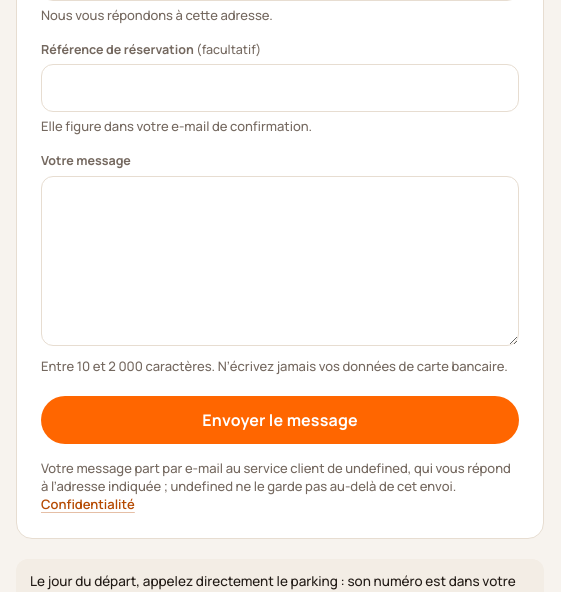
Test case: ContactView (/contact, 15/10/2026) › shows the API's general errors above the form
(page scrolled)
Click the button "Envoyer le message": {"x": 280, "y": 420} x1=41 y1=396 x2=519 y2=444
(page scrolled)
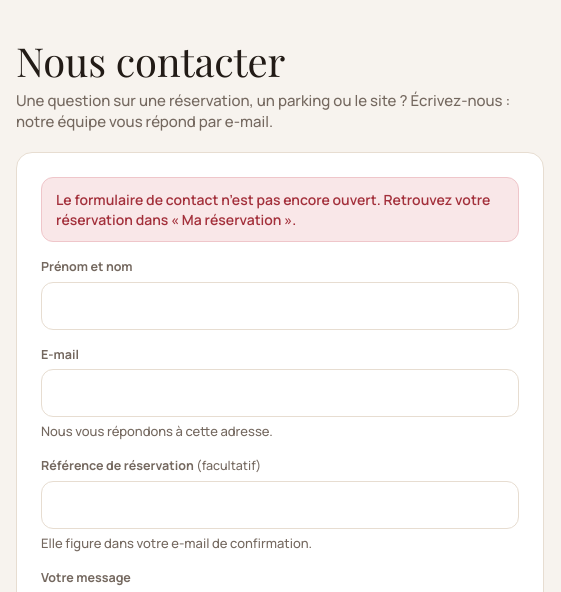
Expected: the message shows "Le formulaire de contact n’est pas encore ouvert.", x1=56 y1=190 x2=490 y2=229
